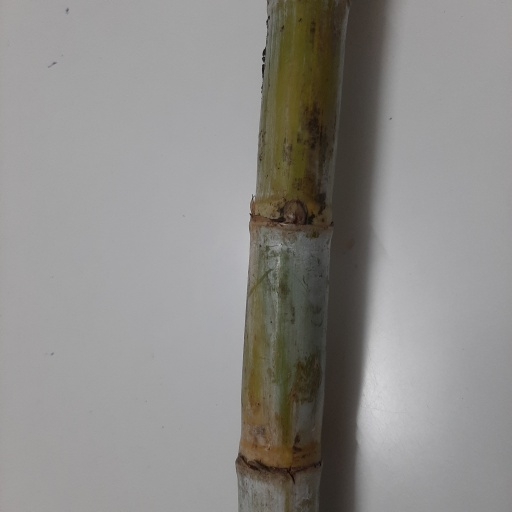Bud: (283, 201, 307, 227)
